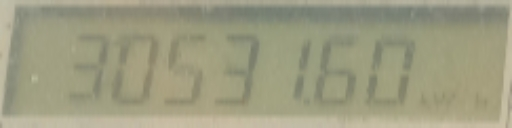0: (115, 26, 157, 106), (370, 32, 412, 112)
1: (272, 26, 314, 106)
3: (67, 28, 109, 108), (217, 30, 259, 110)
5: (165, 28, 207, 108)
6: (318, 26, 360, 106)
d: (304, 96, 311, 106)
